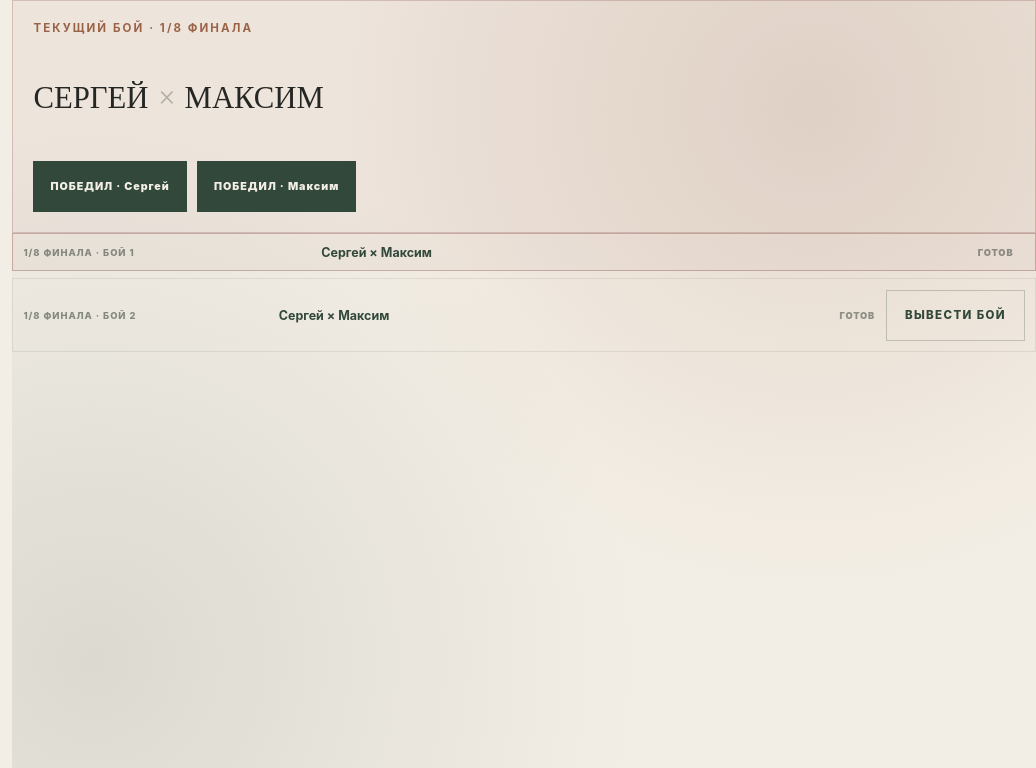
Test: MatchEditor › clears busy state, preserves the bracket and reports a rejected fight selection
This screenshot has width=1036, height=768.
Click the button "ВЫВЕСТИ БОЙ" at (955, 315), box [886,290,1025,341]
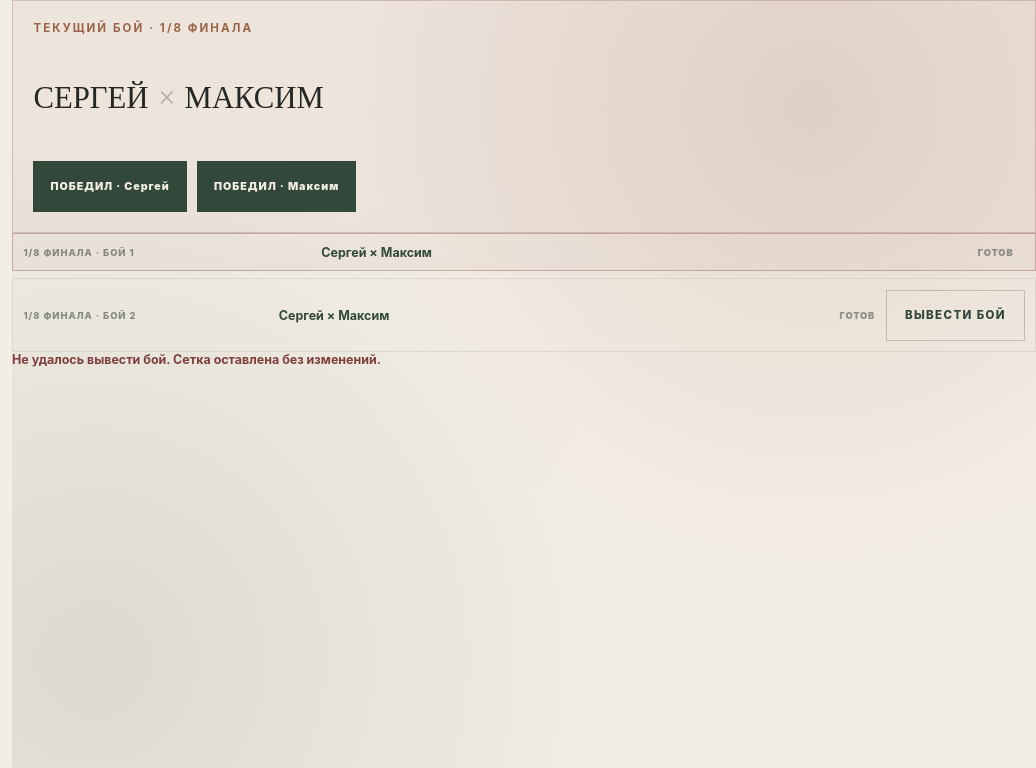
Expected: the text "1/8 ФИНАЛА · БОЙ 2" is shown once, [23,310,136,321]
Result: the message reads "Не удалось вывести бой. Сетка оставлена без изменений." at [12,352,381,367]
